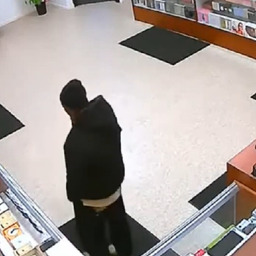person: (58, 76, 139, 256)
